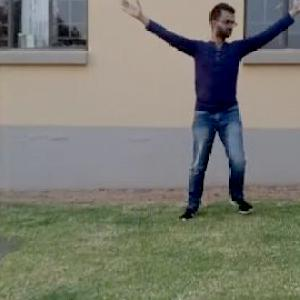takeoff: (89, 0, 299, 246)
